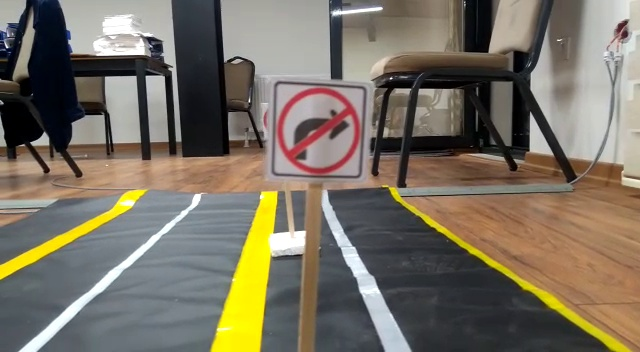saga_donulmez: (271, 81, 368, 179)
